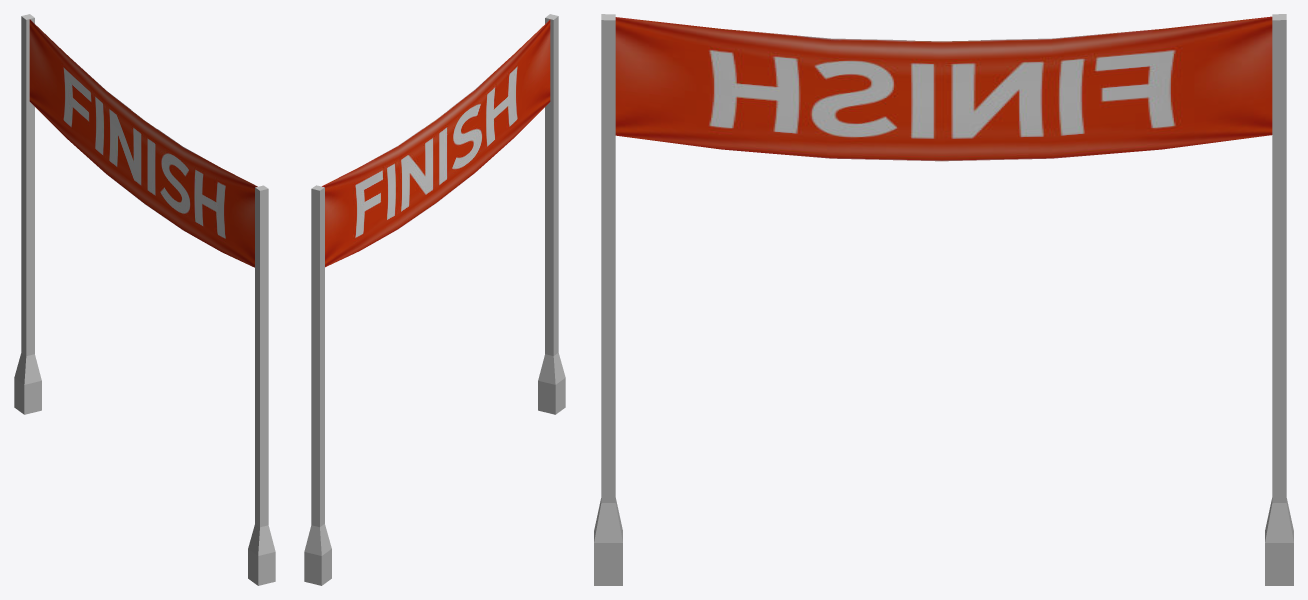
File: FlagPost.fbx
3 renders of one model, left to right at view 1: azimuth 30°, elevation 25°; view 2: azimuth 150°, elevation 25°; view 3: azimuth 270°, elevation 25°, orthographic. The views are drawn at different scales.
Parts seen in each view (by area): view 1: Cube.001; view 2: Cube.001; view 3: Cube.001.
Boxes of the visible parts, x1,y1,x2,y2 form: Cube.001: (14,14,275,585); Cube.001: (304,14,565,585); Cube.001: (594,14,1293,585).
Size of the model in its own units: 23.07 by 495 by 558.
